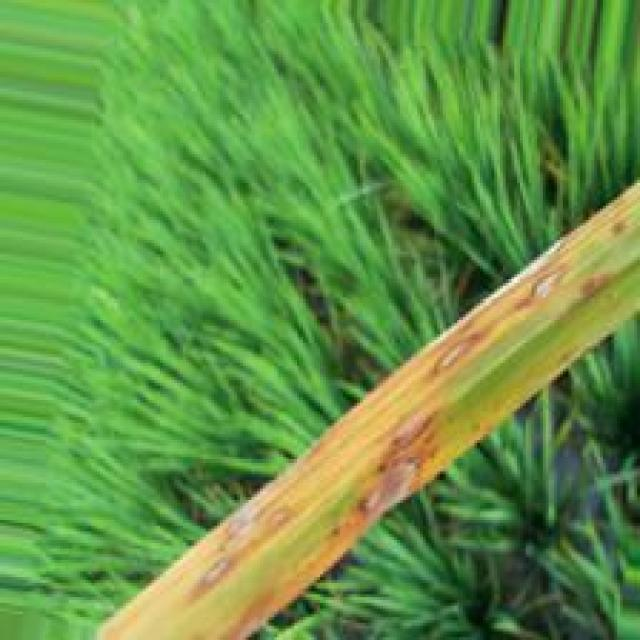Bacterial_Leaf_Blight: (180, 183, 636, 607), (217, 399, 452, 640), (457, 381, 516, 448), (578, 269, 610, 297)
